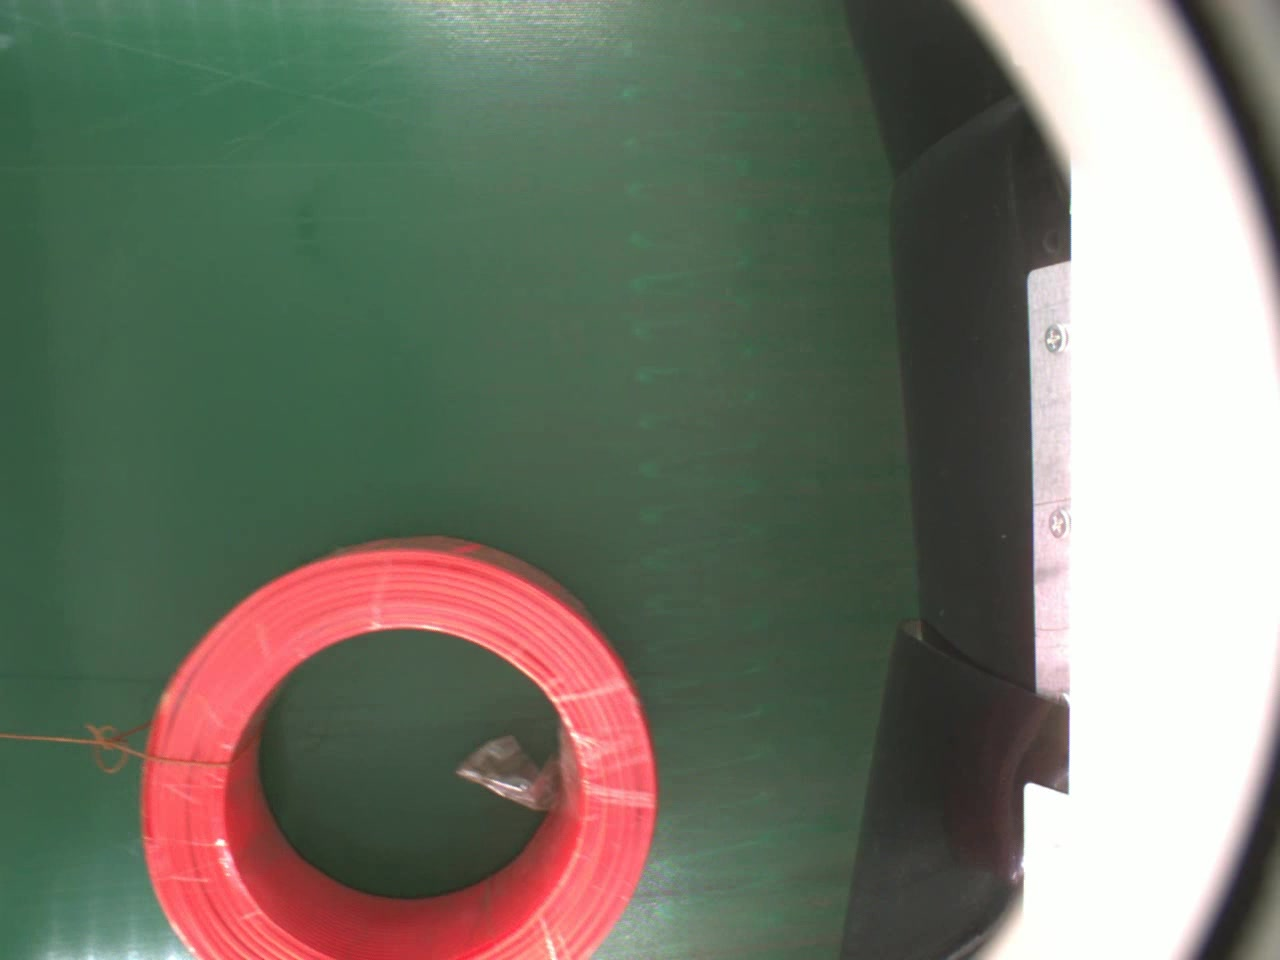red: (138, 535, 665, 960)
